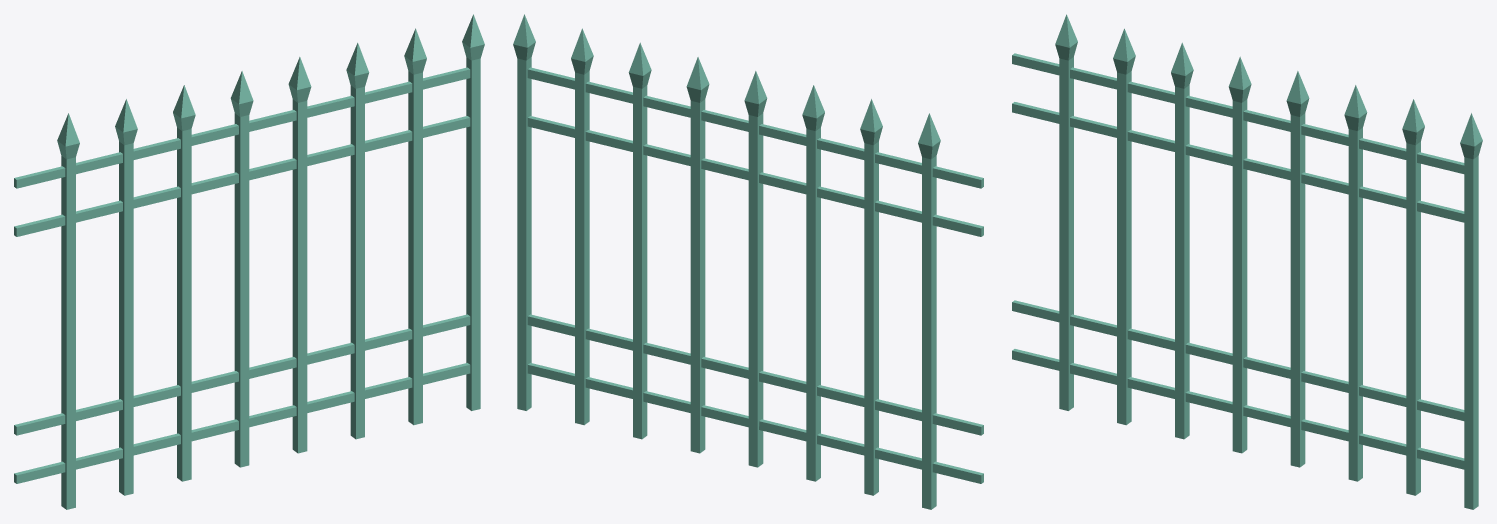
The model's file is fenceIron.obj.
3 views of the same model, side by side, from view 1: azimuth 30°, elevation 25°; view 2: azimuth 150°, elevation 25°; view 3: azimuth 330°, elevation 25° (orthographic).
Parts seen in each view (by area): view 1: bar 11, bar 6, bar, bar 7, bar 5, bar 8, bar 9, bar 10, bar 3, bar 2, bar 4, bar 1; view 2: bar 11, bar 6, bar, bar 7, bar 5, bar 8, bar 9, bar 10, bar 3, bar 2, bar 4, bar 1; view 3: bar 6, bar 11, bar 8, bar 10, bar 9, bar, bar 5, bar 7, bar 4, bar 1, bar 2, bar 3.
Boxes of the visible parts, left/top/right/bottom form: bar 11: left=288, top=57, right=311, bottom=453; bar 6: left=230, top=71, right=253, bottom=467; bar: left=173, top=85, right=195, bottom=481; bar 7: left=115, top=99, right=137, bottom=495; bar 5: left=57, top=113, right=79, bottom=509; bar 8: left=462, top=14, right=484, bottom=410; bar 9: left=404, top=28, right=426, bottom=425; bar 10: left=346, top=42, right=369, bottom=439; bar 3: left=14, top=314, right=470, bottom=435; bar 2: left=14, top=67, right=470, bottom=188; bar 4: left=14, top=116, right=470, bottom=236; bar 1: left=14, top=363, right=470, bottom=483; bar 11: left=686, top=57, right=709, bottom=453; bar 6: left=744, top=71, right=767, bottom=467; bar: left=802, top=85, right=824, bottom=481; bar 7: left=860, top=99, right=882, bottom=495; bar 5: left=918, top=113, right=940, bottom=509; bar 8: left=513, top=14, right=535, bottom=410; bar 9: left=571, top=28, right=593, bottom=425; bar 10: left=628, top=42, right=651, bottom=439; bar 3: left=527, top=314, right=983, bottom=435; bar 2: left=527, top=67, right=983, bottom=188; bar 4: left=527, top=116, right=983, bottom=236; bar 1: left=527, top=363, right=983, bottom=483; bar 6: left=1228, top=56, right=1251, bottom=453; bar 11: left=1286, top=71, right=1309, bottom=467; bar 8: left=1460, top=113, right=1482, bottom=509; bar 10: left=1344, top=85, right=1367, bottom=481; bar 9: left=1402, top=99, right=1424, bottom=495; bar: left=1171, top=42, right=1193, bottom=439; bar 5: left=1055, top=14, right=1077, bottom=410; bar 7: left=1113, top=28, right=1135, bottom=425; bar 4: left=1012, top=102, right=1464, bottom=222; bar 1: left=1012, top=349, right=1464, bottom=469; bar 2: left=1012, top=53, right=1464, bottom=173; bar 3: left=1012, top=300, right=1464, bottom=420.
Bounding box in the file's own units: 10.06 × 8.14 × 0.314.
